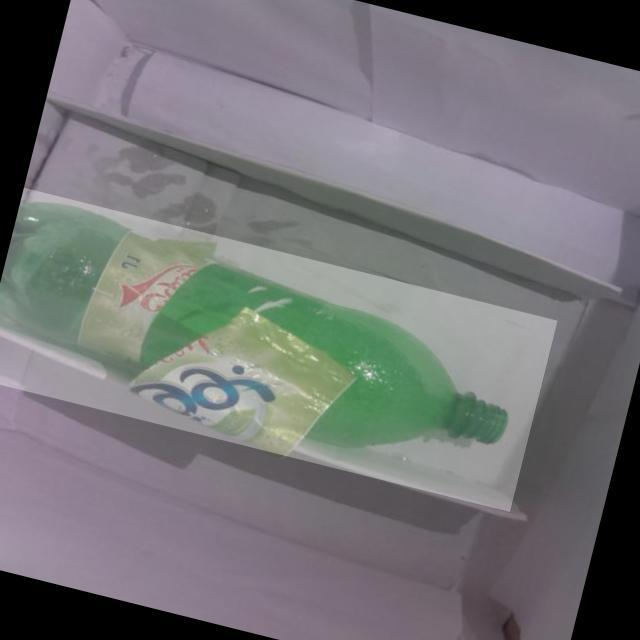good: (0, 186, 557, 510)
